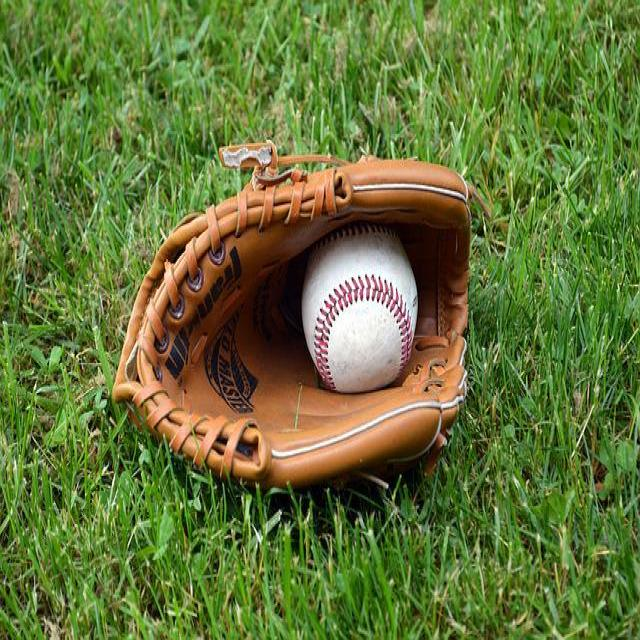baseball: (300, 219, 420, 392)
